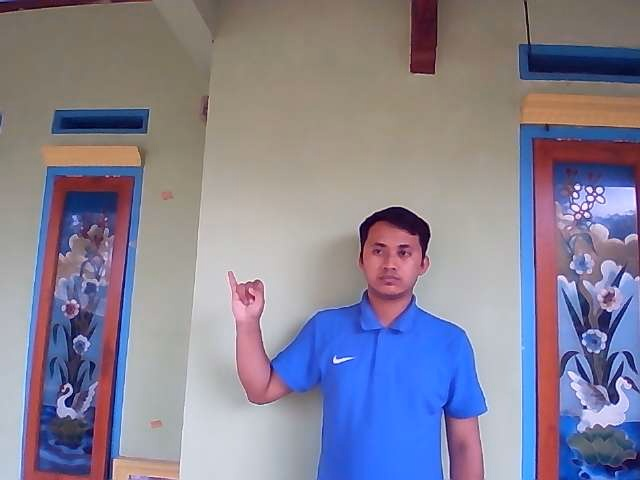I: (228, 270, 265, 320)
